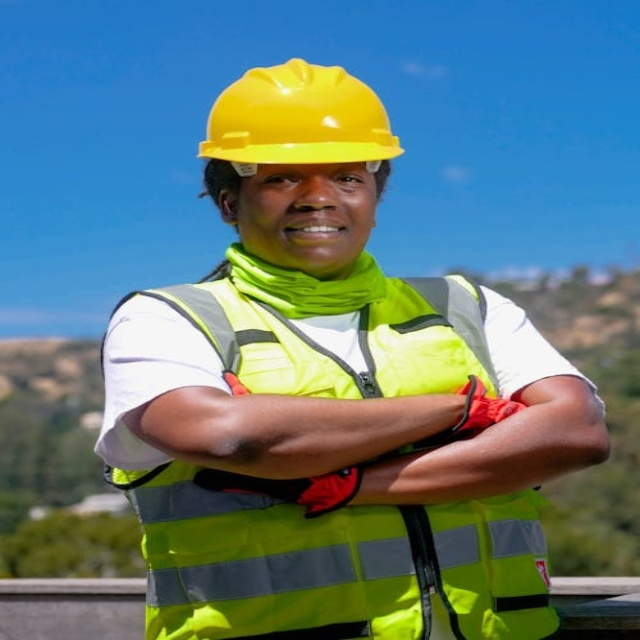Guantes: (195, 463, 361, 520), (445, 376, 528, 440)
Sin_gafas: (256, 171, 370, 192)
Sin_mascara: (273, 212, 355, 257)
